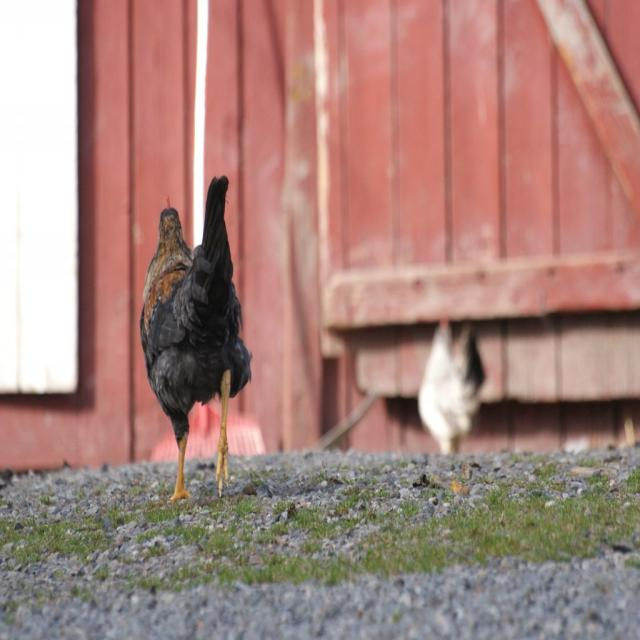Chicken: (141, 168, 248, 528), (417, 312, 486, 458)
